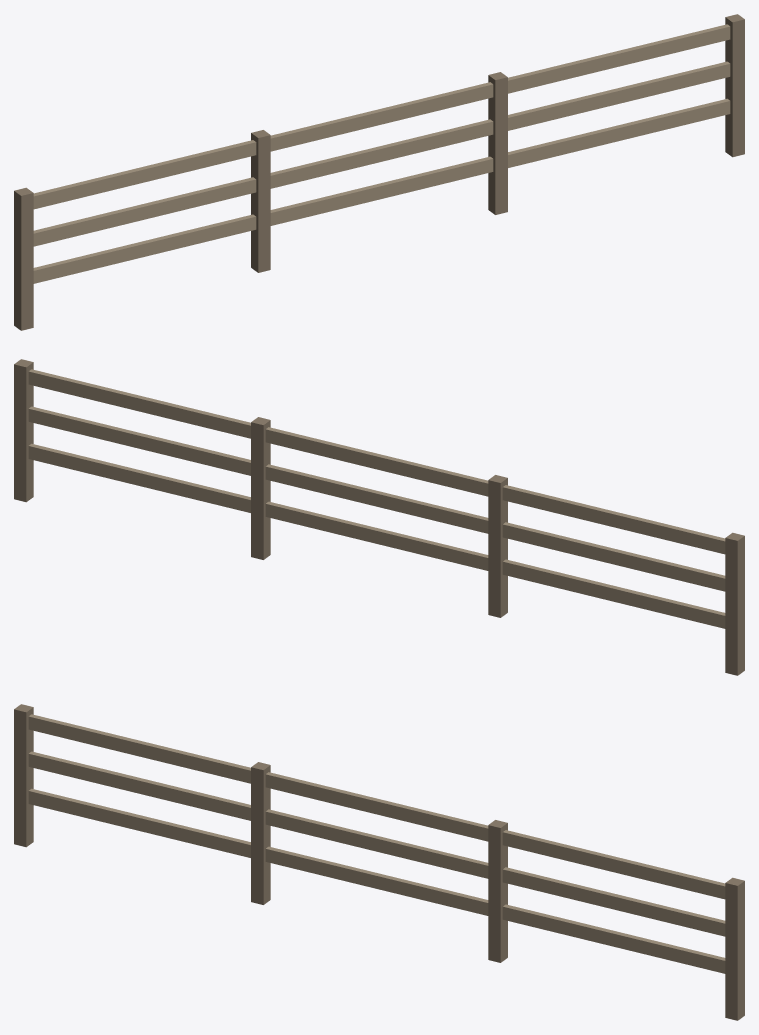
Rendered from fence_8m.glb.
3 views of the same model, one above another, from view 1: azimuth 30°, elevation 25°; view 2: azimuth 150°, elevation 25°; view 3: azimuth 330°, elevation 25° (orthographic).
Visible parts, largest first — view 1: fence_8m; view 2: fence_8m; view 3: fence_8m.
Part boxes in pixels (box(x1,y1,x2,y2)): fence_8m: box(14, 14, 744, 330); fence_8m: box(14, 359, 744, 675); fence_8m: box(14, 704, 744, 1020).
Bounding box in the file's own units: 8.14 × 1.45 × 0.14.
